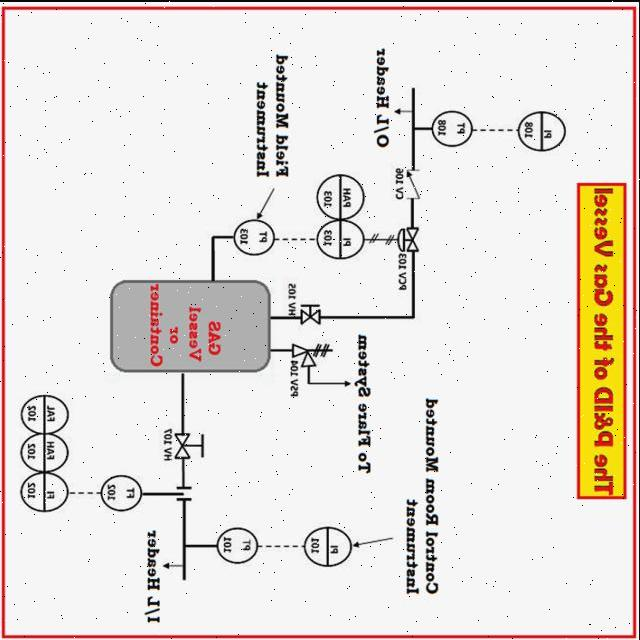Check Valve: (404, 165, 430, 201)
Hand Operated Gate Valve: (174, 423, 221, 462), (298, 298, 330, 326)
Orifice: (166, 474, 205, 508)
PSV: (289, 334, 337, 370)
Pneumatic-Diaphragm Gate Valve: (393, 220, 431, 253)
